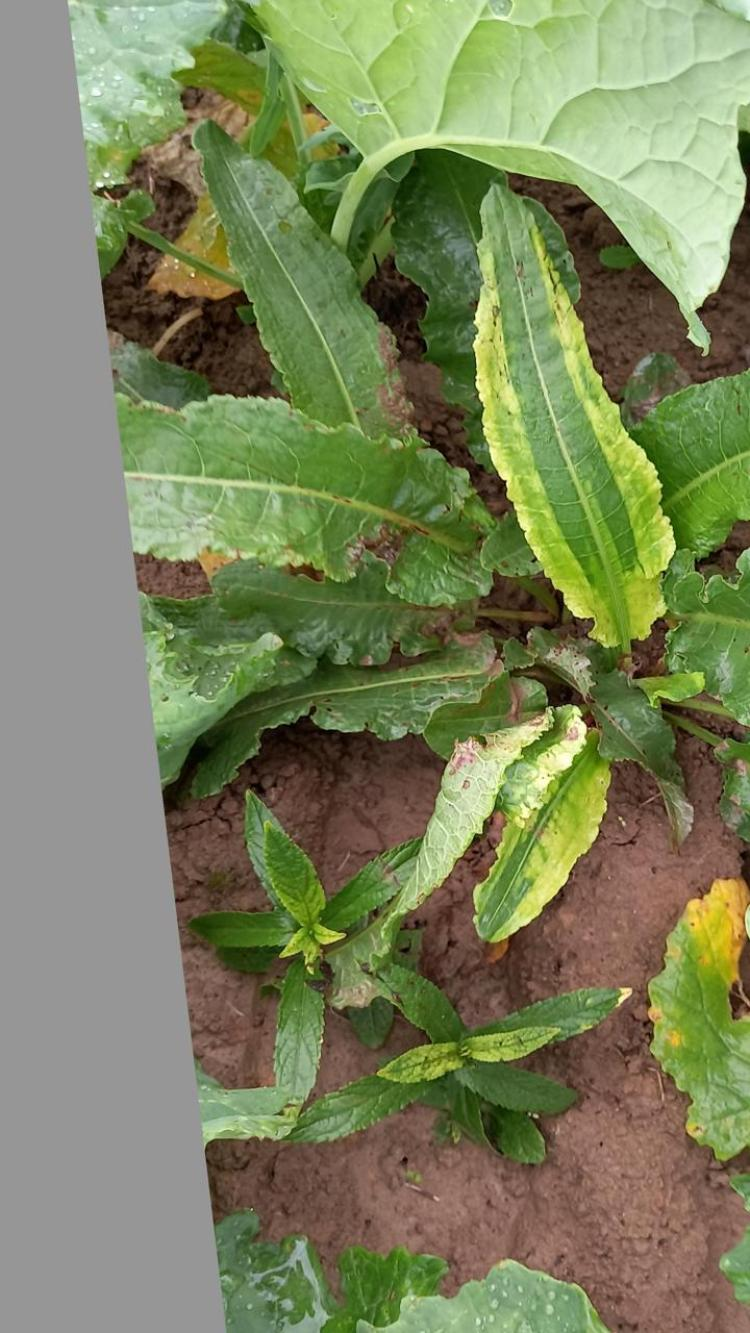zhavel: (112, 122, 750, 943)
